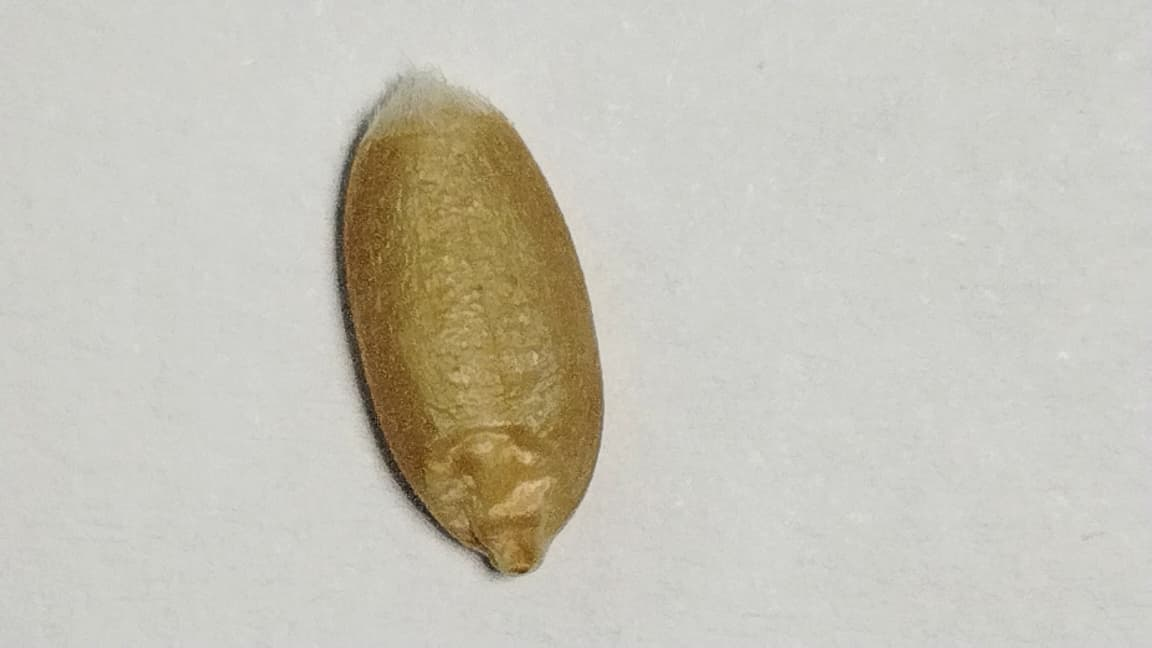healthy: (343, 84, 602, 571)
